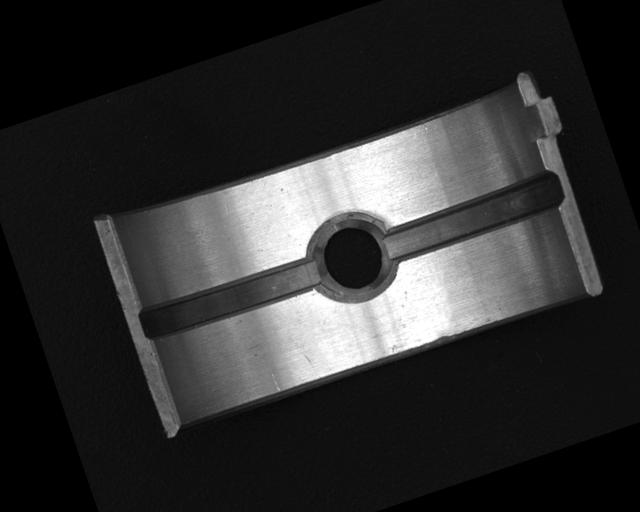gap: (134, 246, 332, 349), (376, 166, 567, 267)
hole: (300, 204, 404, 310)
nick: (268, 370, 283, 393)
